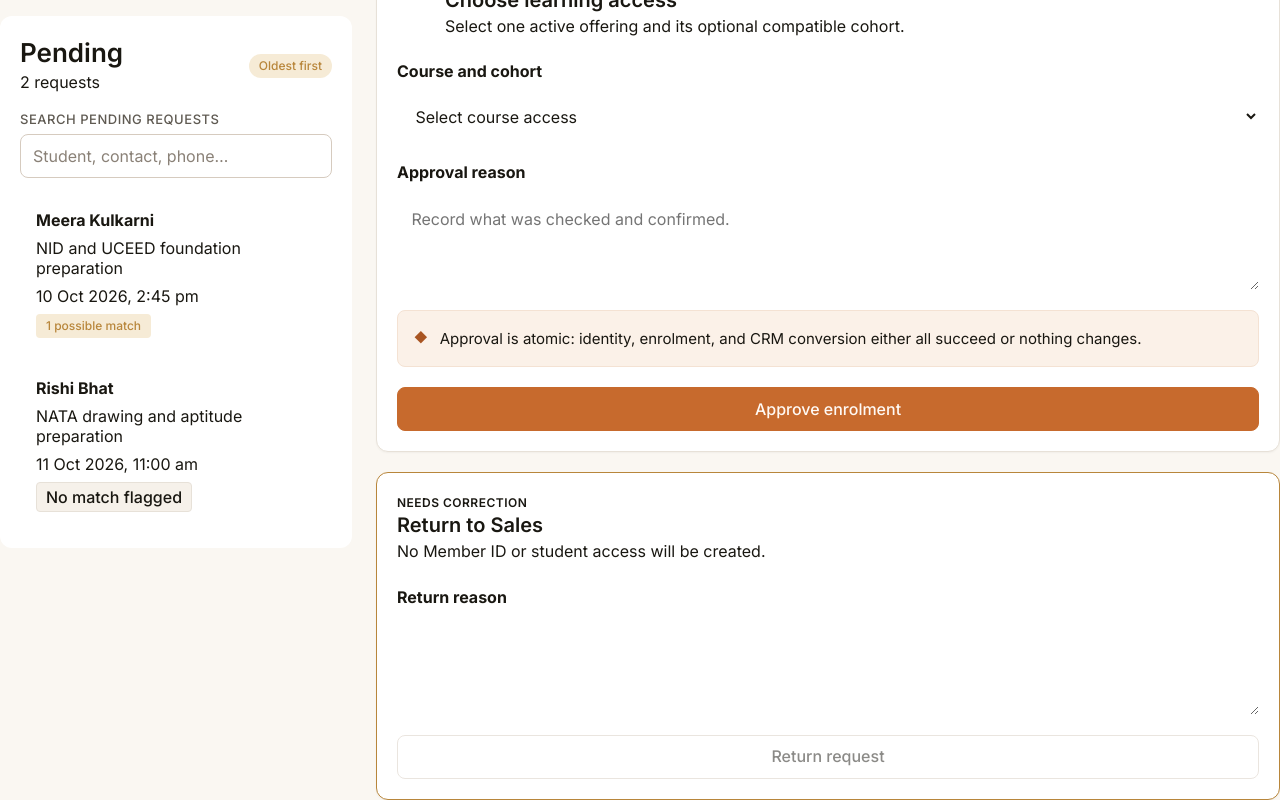
Test: EnrolmentHandoffPage › returns a request to Sales without creating access
(page scrolled)
Step 1. Type "Confirm the intended cohort." into the text box labelled "Return reason" → (828, 667), box [397,619,1259,715]
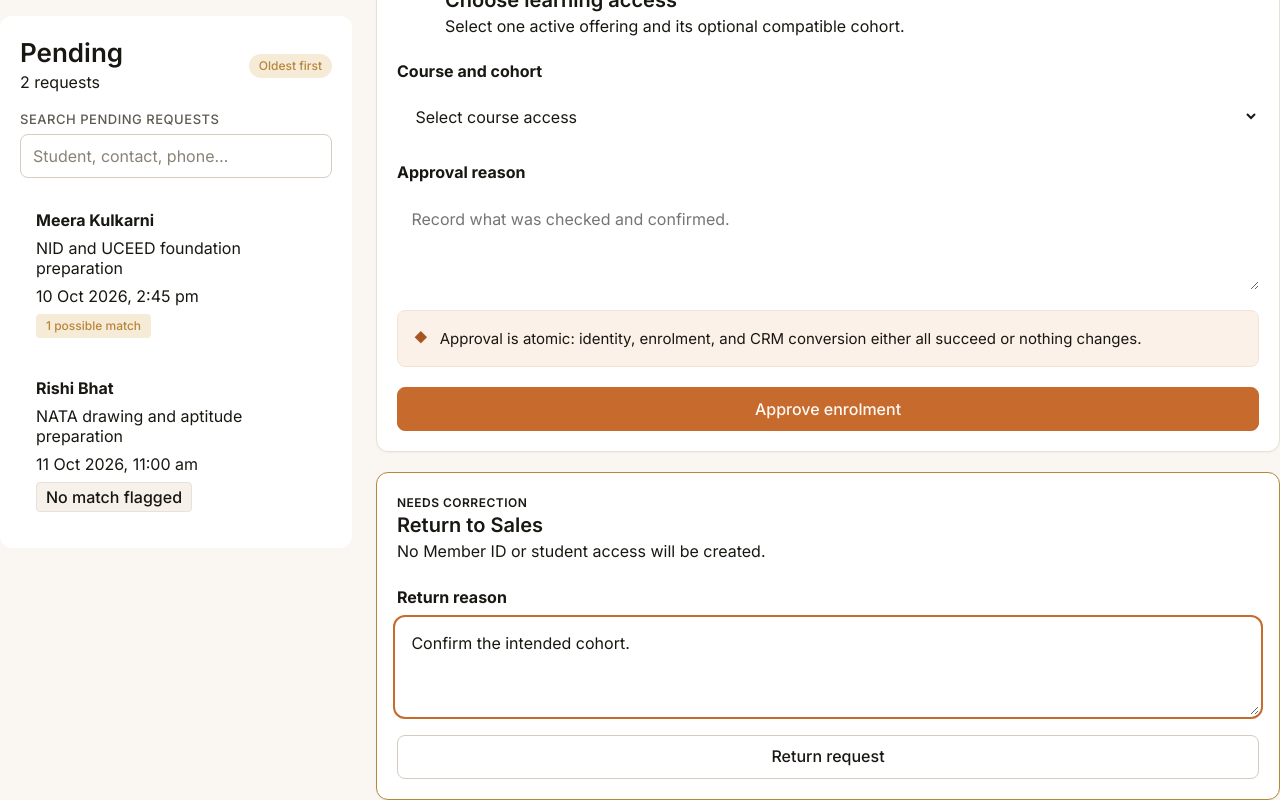
Step 2. Click the button "Return request" → click(828, 757), box [397,735,1259,779]
(page scrolled)
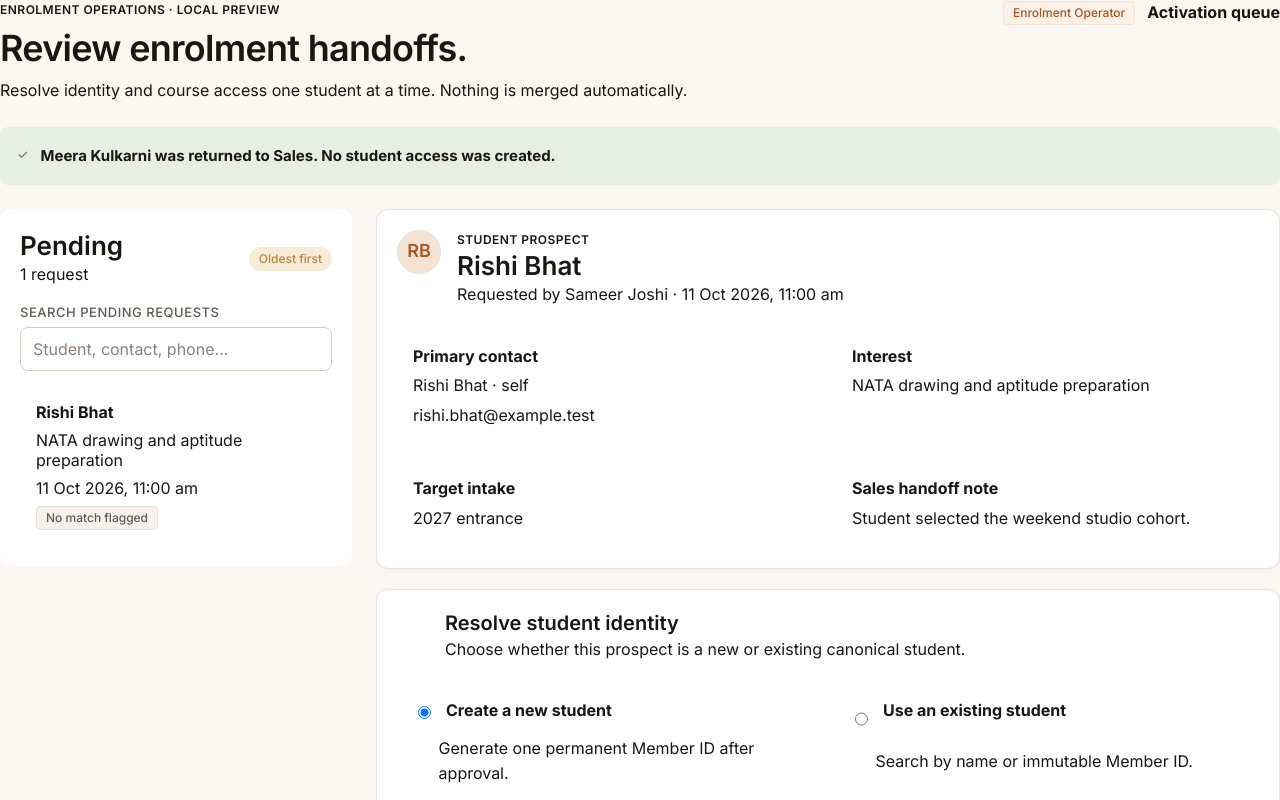
Now the text "returned to Sales. No student access was created" is shown, box [40,146,556,165]
